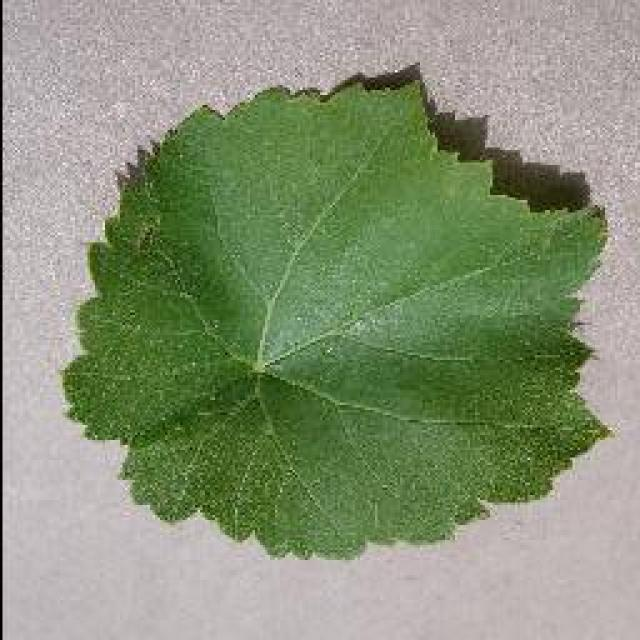Grape___healthy: (62, 82, 605, 555)
